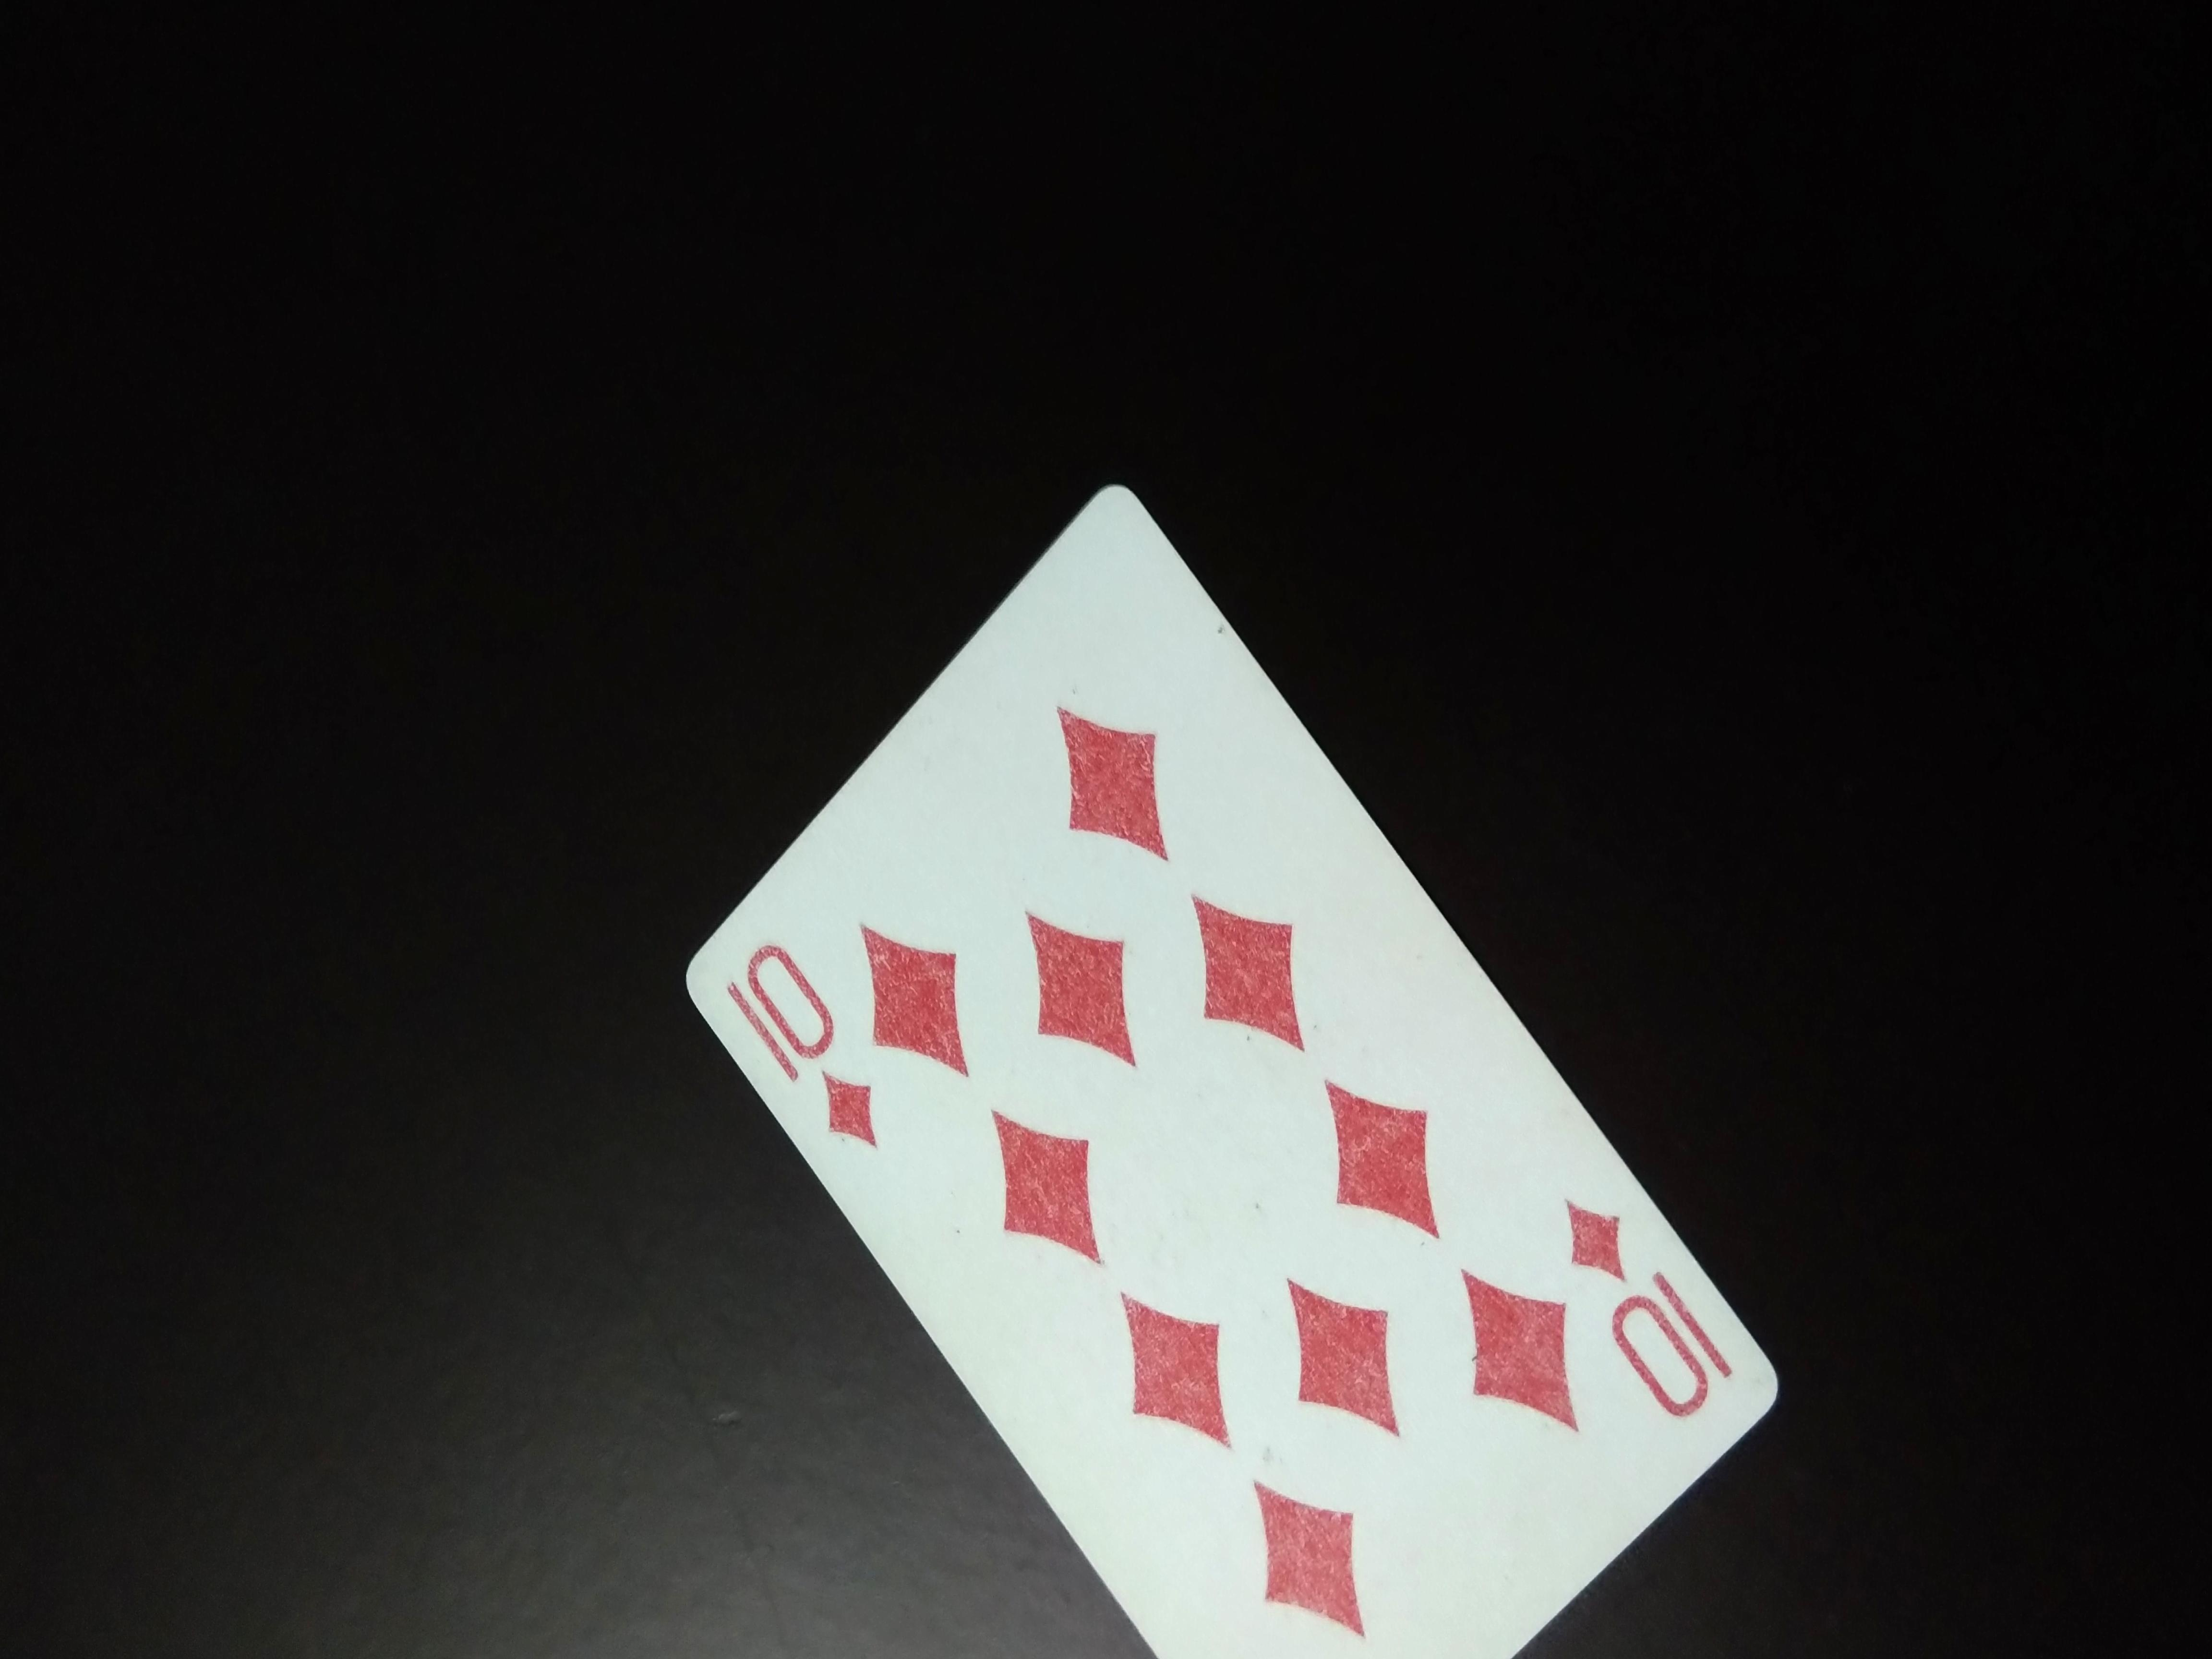10D: (719, 938, 888, 1169)
